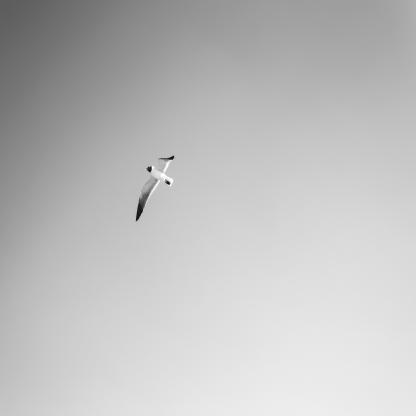bird: (136, 155, 174, 222)
